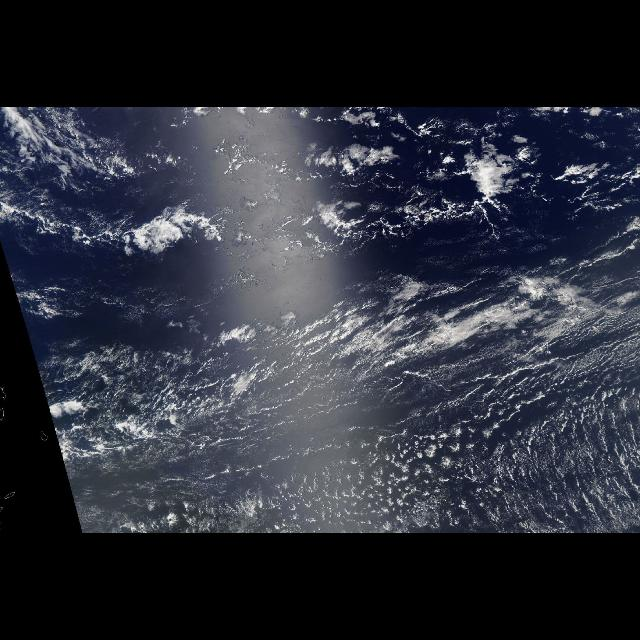Fish: (7, 182, 536, 262)
Flower: (105, 167, 298, 305)
Gravel: (294, 344, 638, 530)
